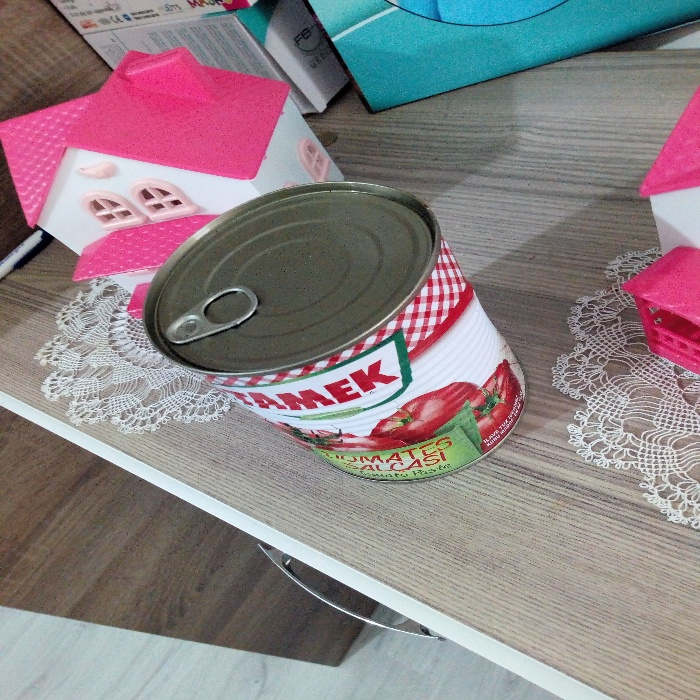salca: (128, 172, 561, 482)
